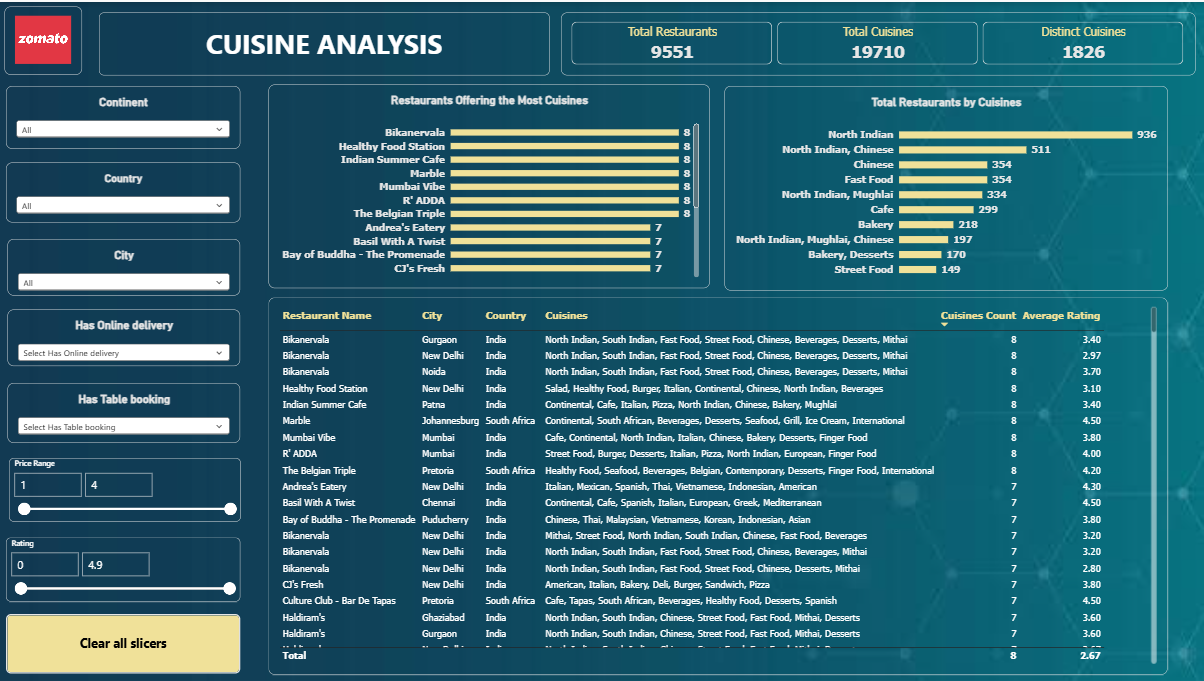

Layout of this report page (visuals, bound fields, positions):
{"tool":"powerbi","page":{"name":"Cuisine Analysis","canvas":[1920,1080],"ordinal":4},"visuals":[{"type":"image","box":[0,0,1920,1080],"z":0},{"type":"image","box":[8.3,8.3,123.3,108.3],"z":1000},{"type":"listSlicer","fields":{"Values":["Append1.Continent Hierarchy.Continent"]},"box":[10,132.5,372.5,100],"z":2000},{"type":"listSlicer","fields":{"Values":["Append1.Continent Hierarchy.Country"]},"box":[10,255,372.5,95],"z":3000},{"type":"listSlicer","fields":{"Values":["Append1.Continent Hierarchy.City"]},"box":[12.5,375.8,370,90],"z":4000},{"type":"listSlicer","fields":{"Values":["KPIs.Has Online delivery"]},"box":[12.5,490,370,90],"z":5000},{"type":"listSlicer","fields":{"Values":["KPIs.Has Table booking"]},"box":[12.5,605,370,95],"z":6000},{"type":"slicer","title":"Rating","fields":{"Values":["KPIs.Price range"]},"box":[13.3,725.6,368.9,101.1],"z":7000},{"type":"slicer","title":"Rating","fields":{"Values":["KPIs.Aggregate rating"]},"box":[10,852.7,372.7,101.8],"z":8000},{"type":"actionButton","box":[10,972.7,372.7,94.5],"z":9000},{"type":"textbox","box":[156.7,16.7,716.7,100],"z":10000},{"type":"cardVisual","fields":{"Data":["Rest Measures.Total Restaurants","Sum(Append1.Cuisines Count)","Rest Measures.Distinct Cuisines"]},"box":[892.3,16.7,1009.2,100.2],"z":11000},{"type":"clusteredBarChart","title":"Restaurants Offering the Most Cuisines","fields":{"Category":["Append1.Restaurant Name"],"Y":["Max(Append1.Cuisines Count)"]},"box":[426,132,702,324],"z":12000},{"type":"tableEx","fields":{"Values":["Append1.Restaurant Name","Append1.Continent Hierarchy.City","Append1.Continent Hierarchy.Country","Append1.Cuisines","Max(Append1.Cuisines Count)","Rest Measures.Average Rating"]},"box":[426.7,470,1430,600],"z":13000},{"type":"clusteredBarChart","fields":{"Category":["Append1.Cuisines"],"Y":["Rest Measures.Total Restaurants"]},"box":[1151.2,132.5,705,325],"z":14000}]}

Visuals, with their boxes in screenshot pixels (x1, y1, x2, y2), scaled from the page's 1920x1080 canvas onto the 1204x681 screenshot:
image: pyautogui.locateOnScreen(0, 0, 1203, 680)
image: pyautogui.locateOnScreen(5, 5, 83, 74)
listSlicer - Append1.Continent Hierarchy.Continent: pyautogui.locateOnScreen(6, 84, 240, 147)
listSlicer - Append1.Continent Hierarchy.Country: pyautogui.locateOnScreen(6, 161, 240, 221)
listSlicer - Append1.Continent Hierarchy.City: pyautogui.locateOnScreen(8, 237, 240, 294)
listSlicer - KPIs.Has Online delivery: pyautogui.locateOnScreen(8, 309, 240, 366)
listSlicer - KPIs.Has Table booking: pyautogui.locateOnScreen(8, 381, 240, 441)
"Rating" slicer: pyautogui.locateOnScreen(8, 458, 240, 521)
"Rating" slicer: pyautogui.locateOnScreen(6, 538, 240, 602)
actionButton: pyautogui.locateOnScreen(6, 613, 240, 673)
textbox: pyautogui.locateOnScreen(98, 11, 548, 74)
cardVisual - Rest Measures.Total Restaurants x Sum(Append1.Cuisines Count): pyautogui.locateOnScreen(560, 11, 1192, 74)
"Restaurants Offering the Most Cuisines" clusteredBarChart: pyautogui.locateOnScreen(267, 83, 707, 288)
tableEx - Append1.Restaurant Name x Append1.Continent Hierarchy.City: pyautogui.locateOnScreen(268, 296, 1164, 675)
clusteredBarChart - Append1.Cuisines x Rest Measures.Total Restaurants: pyautogui.locateOnScreen(722, 84, 1164, 288)
